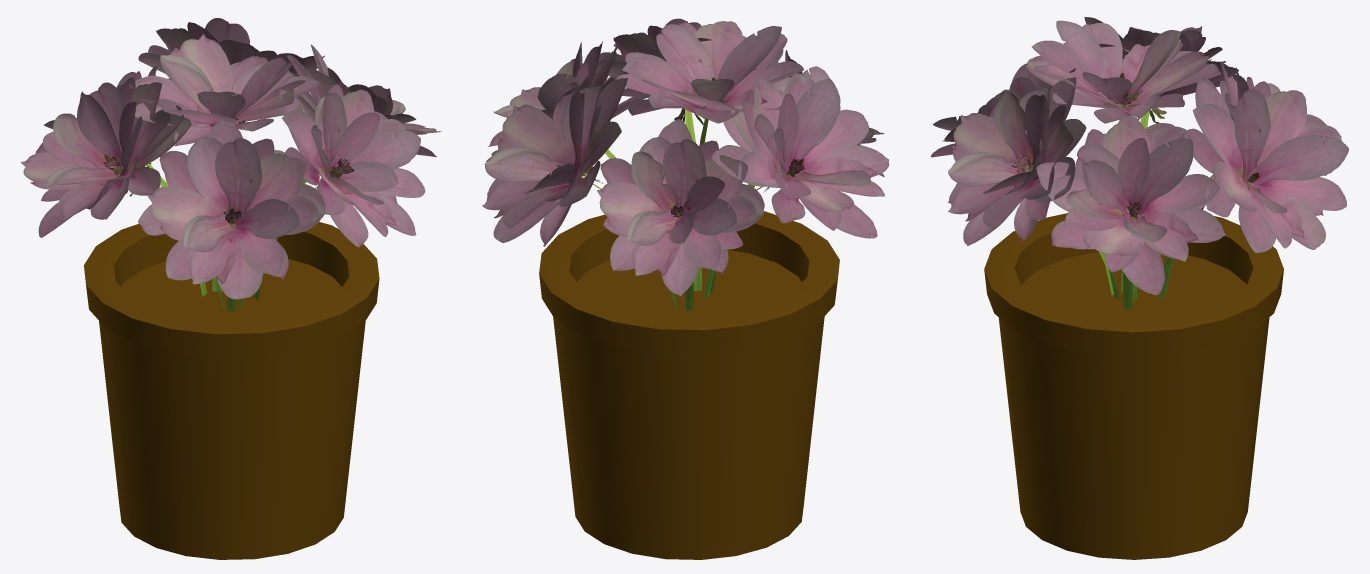
Rendered from pot.fbx.
3 views of the same model, side by side, from view 1: azimuth 30°, elevation 25°; view 2: azimuth 150°, elevation 25°; view 3: azimuth 270°, elevation 25° (orthographic).
Parts seen in each view (by area): view 1: pCylinder1, flowers_magnolia_003; view 2: pCylinder1, flowers_magnolia_003; view 3: pCylinder1, flowers_magnolia_003.
Boxes of the visible parts, x1,y1,x2,y2 form: pCylinder1: (84,222,379,559); flowers_magnolia_003: (20,18,441,311); pCylinder1: (539,211,839,559); flowers_magnolia_003: (482,18,889,310); pCylinder1: (984,213,1283,559); flowers_magnolia_003: (931,17,1348,309).
Bounding box in the file's own units: 5.6 × 6.33 × 5.32.
Materials: 3 (2 with a texture image).
